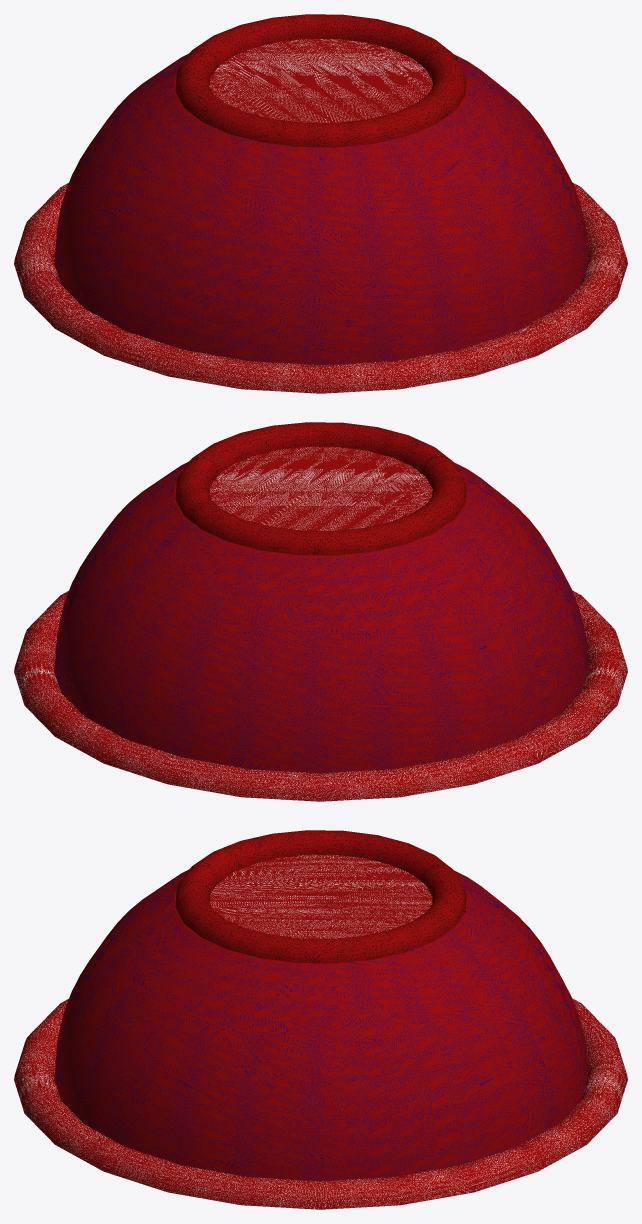
File: blueNote.dae
The picture shows the model from 3 angles, top to bottom: view 1: azimuth 30°, elevation 25°; view 2: azimuth 150°, elevation 25°; view 3: azimuth 270°, elevation 25°; orthographic projection.
Visible parts, largest first — view 1: group_0 (×4); view 2: group_0 (×4); view 3: group_0 (×4).
Part boxes in pixels (<box>): group_0 (×4): <box>14,14,627,393</box>; group_0 (×4): <box>14,422,627,801</box>; group_0 (×4): <box>14,830,627,1209</box>.
Bounding box in the file's own units: 78.74 × 78.74 × 27.43.
